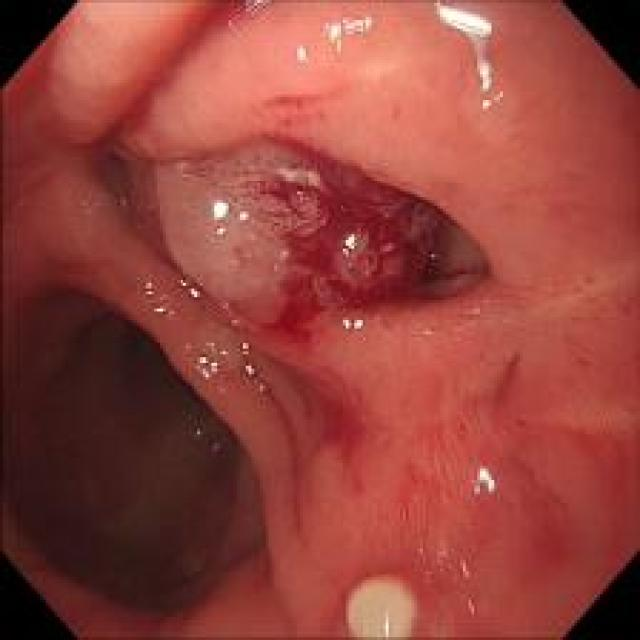blood: (255, 138, 429, 318), (246, 349, 381, 514)
bubbles: (208, 440, 222, 458), (291, 189, 306, 205), (189, 425, 202, 439)
color misalignment: (466, 30, 510, 112), (222, 0, 274, 32), (338, 10, 378, 41), (432, 544, 452, 580), (456, 552, 478, 582), (540, 1, 565, 19)
contrast: (15, 290, 241, 580)
specularity: (438, 9, 515, 130), (191, 338, 274, 410), (141, 274, 209, 332), (296, 14, 369, 66), (208, 194, 259, 248), (330, 300, 370, 345), (464, 458, 496, 502), (338, 221, 356, 254), (292, 191, 304, 204), (381, 619, 390, 631), (429, 255, 436, 261)
